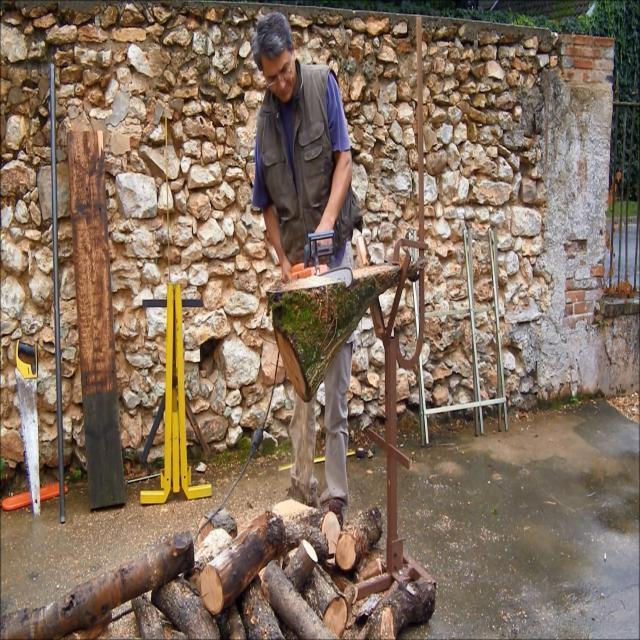Chainsaw: (275, 219, 353, 338)
